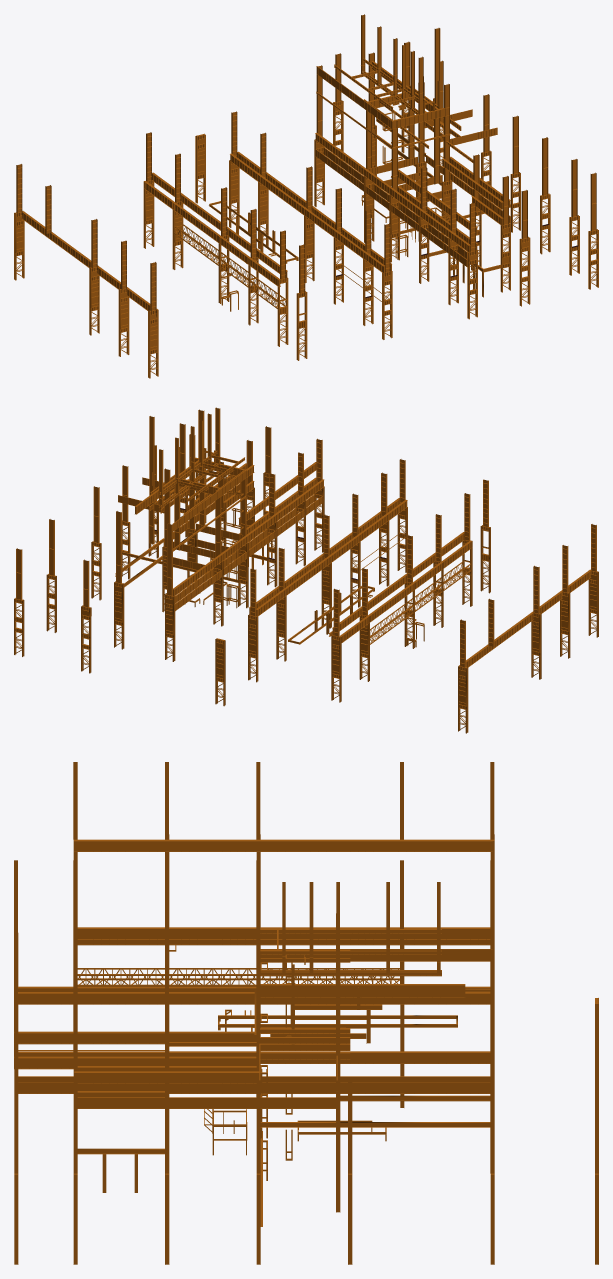
3 views of the same model, one above another, from view 1: azimuth 30°, elevation 25°; view 2: azimuth 150°, elevation 25°; view 3: azimuth 270°, elevation 25° (orthographic). The views are drawn at different scales.
Visible parts, largest first — view 1: Object926; view 2: Object926; view 3: Object926.
Part boxes in pixels (x1=…): Object926: x1=14, y1=14, x2=598, y2=378; Object926: x1=14, y1=407, x2=598, y2=733; Object926: x1=14, y1=762, x2=598, y2=1264.
Bounding box in the file's own units: 13019 × 5704 × 9849.
